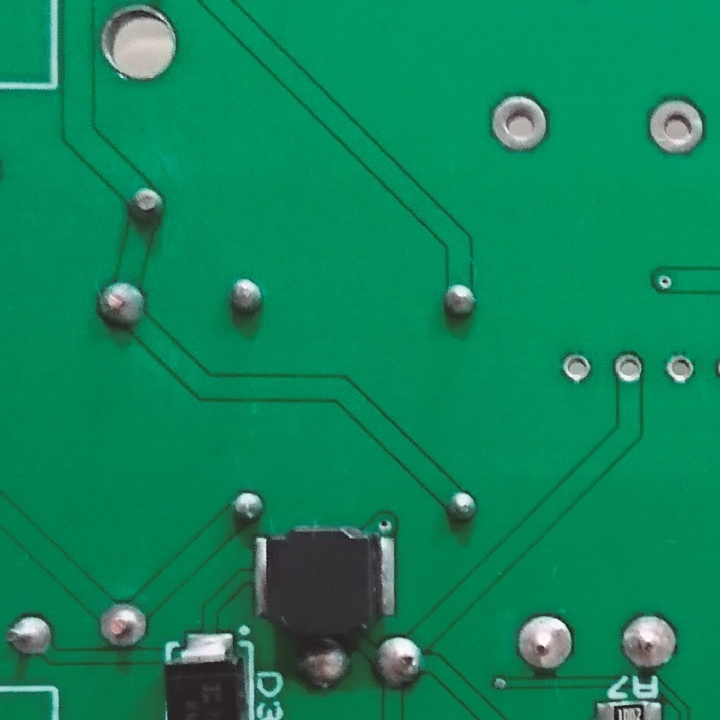F: (487, 90, 557, 156), (617, 610, 683, 677), (644, 95, 708, 160), (516, 612, 575, 675), (93, 599, 156, 651), (2, 613, 57, 663), (664, 349, 696, 389), (559, 348, 594, 384), (607, 352, 646, 383)
